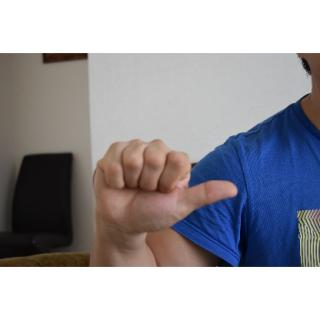DAD: (89, 134, 240, 243)
